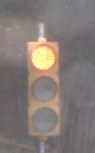Red: (28, 35, 69, 142)
